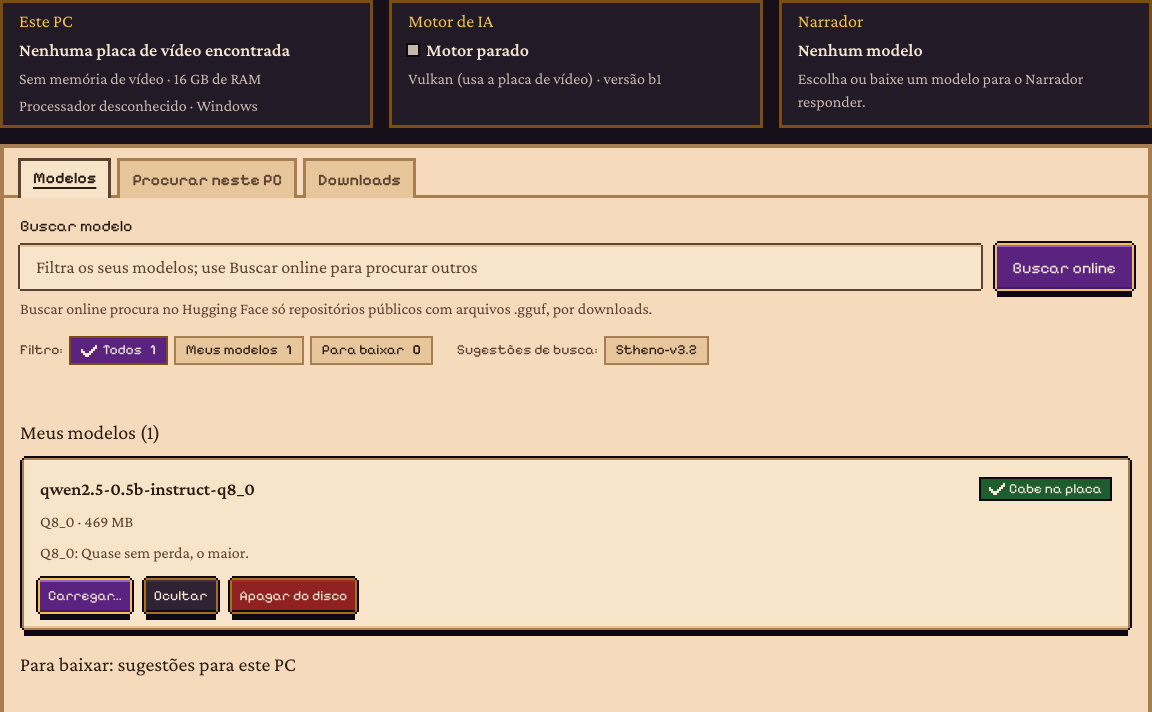
Test case: Modelos — Buscar online › busca com Enter e mostra repositório, downloads, curtidas, licença e o que você já tem
Replace the text in the search field labelled "Buscar modelo" with "Qwen2.5 0.5B" at point(500, 267), box [20,245,980,289]
Then press Enter
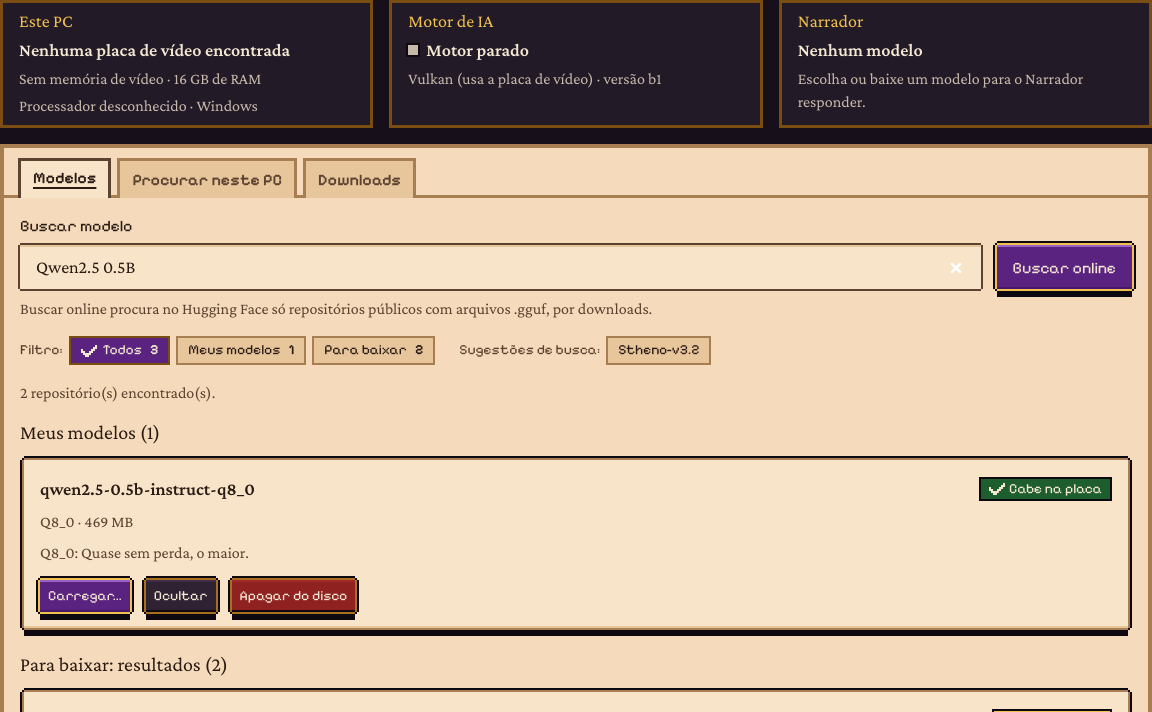
Now the heading "Para baixar: resultados (2)" is shown, box [20,653,228,675]
Now the text with test id "search-status" reads "2 repositório(s) encontrado(s).", box [20,384,215,401]
